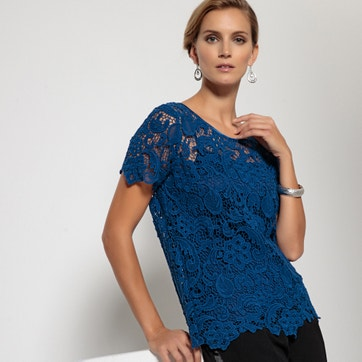C_short blouse: (119, 100, 327, 349)
